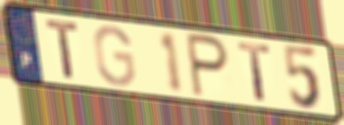1: (157, 30, 183, 95)
5: (281, 44, 327, 112)
G: (92, 23, 138, 88)
P: (185, 30, 232, 101)
T: (235, 39, 274, 104), (44, 18, 82, 82)
